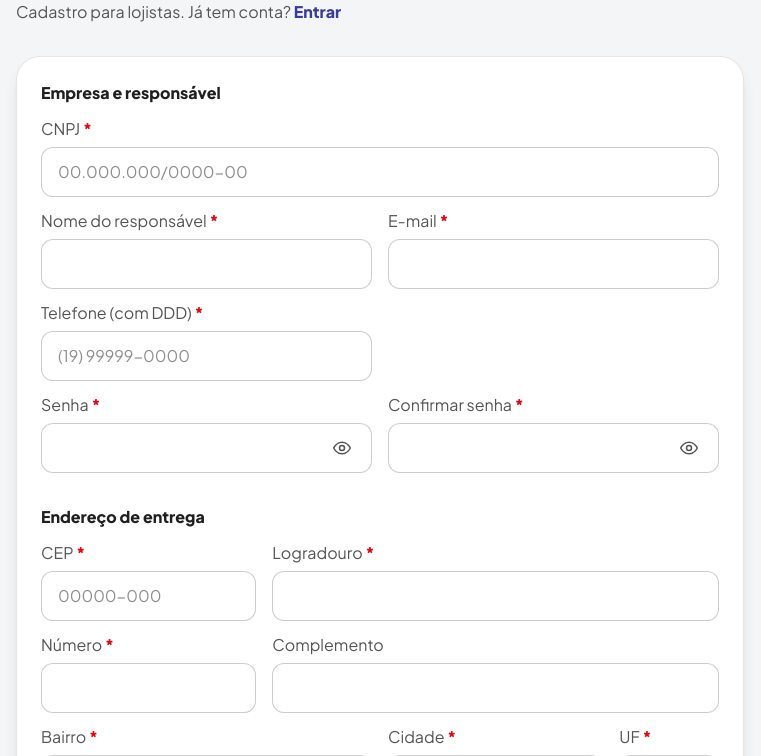
Test: Cadastro: avisos nos campos obrigatórios › telefone incompleto e CEP incompleto recebem aviso
The width and height of the screenshot is (761, 756).
Type "1999" into the field labelled "Telefone (com DDD) *".
click(206, 356); type("1999")  # box [41,331,372,381]
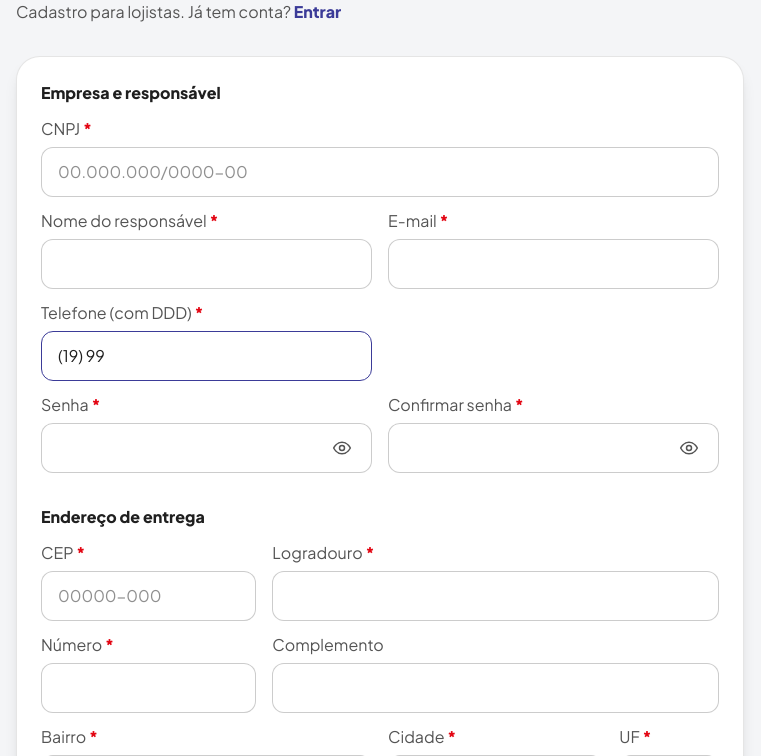
Type "1356" into the field labelled "CEP *".
click(149, 596); type("1356")  # box [41,571,256,621]
(page scrolled)
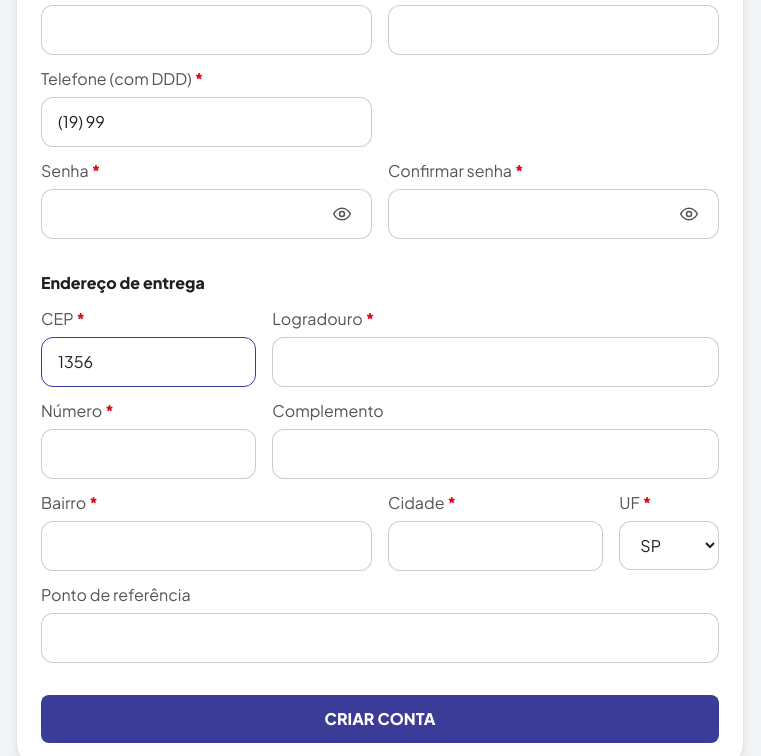
Click the button "Criar conta".
click(380, 719)  # box [41,695,719,743]
(page scrolled)
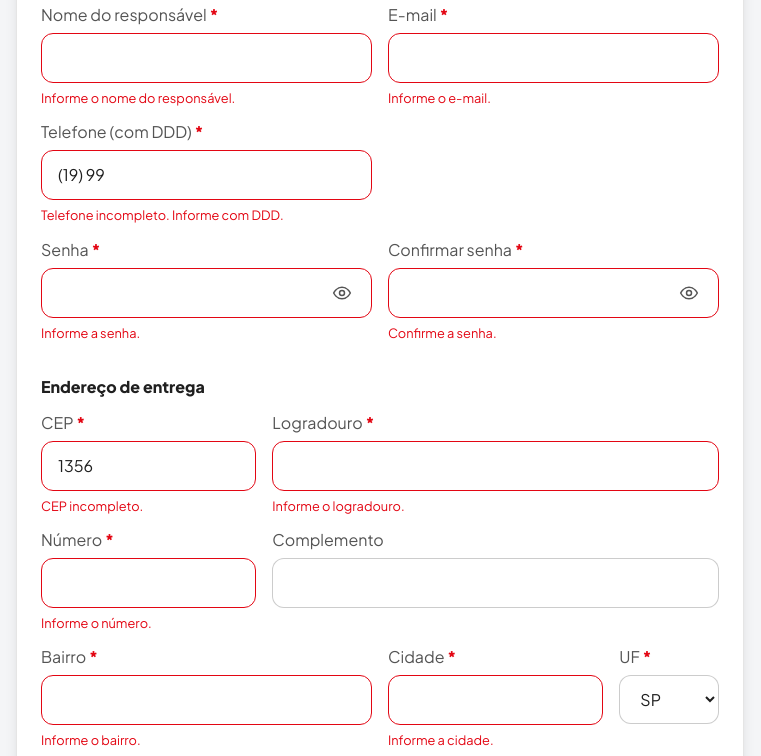
Now the text "Telefone incompleto. Informe com DDD." is shown, box [41,207,284,223]
Now the text "CEP incompleto." is shown, box [41,498,143,514]
